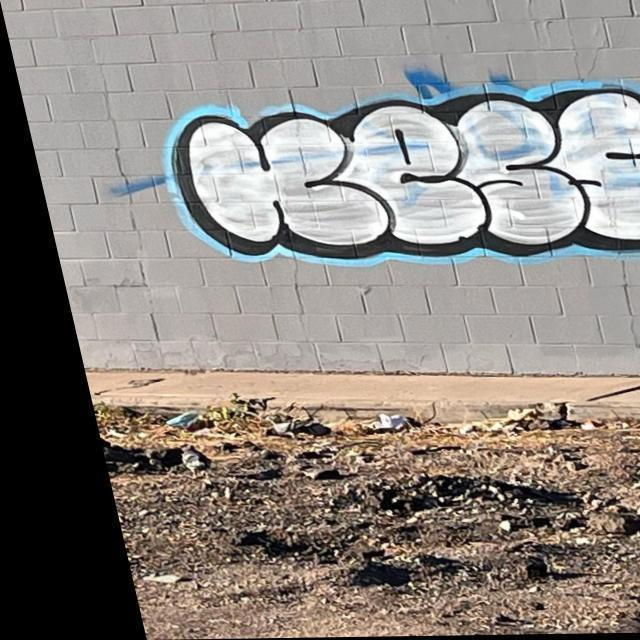nonspitting: (161, 79, 640, 270)
